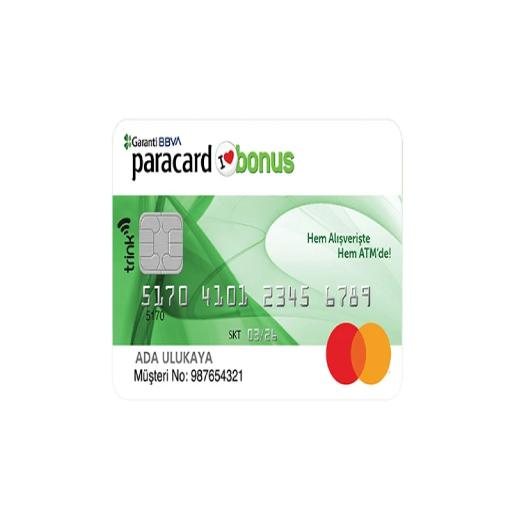kredi karti: (58, 65, 469, 454)
